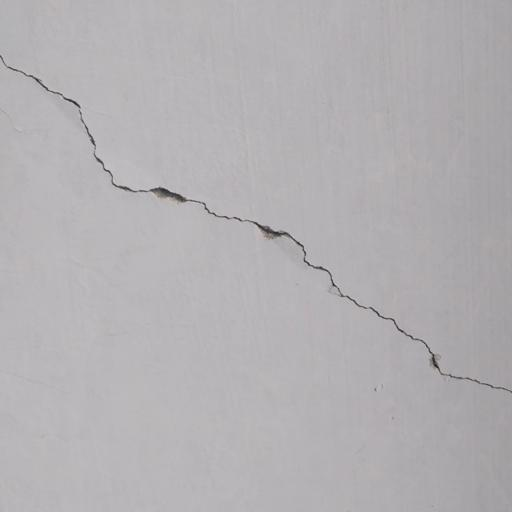major_crack: (0, 38, 512, 400)
